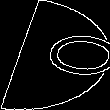O_W: (6, 28, 104, 82)
